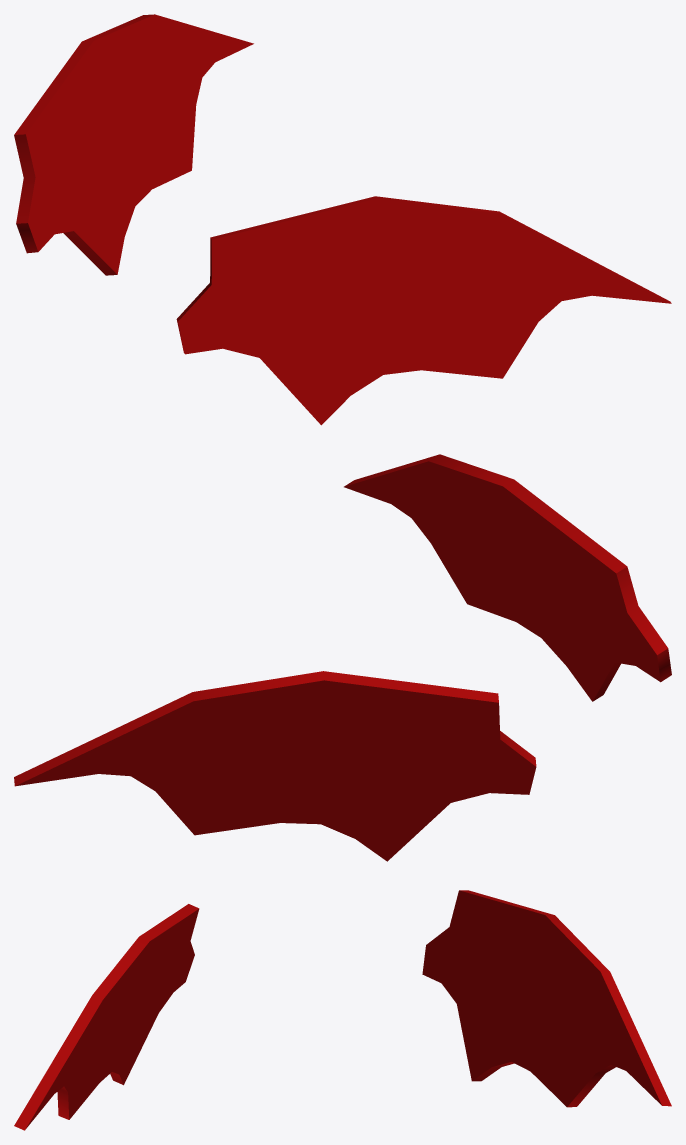
Rendered from wing.fbx.
3 renders of one model, top to bottom at view 1: azimuth 30°, elevation 25°; view 2: azimuth 150°, elevation 25°; view 3: azimuth 270°, elevation 25°, orthographic. The views are drawn at different scales.
Visible parts, largest first — view 1: pCube3; view 2: pCube3; view 3: pCube3.
Part boxes in pixels (box(x1,y1,x2,y2)): pCube3: box(14, 14, 671, 425); pCube3: box(14, 454, 671, 861); pCube3: box(14, 890, 671, 1130).
Bounding box in the file's own units: 229 × 106 × 356.
